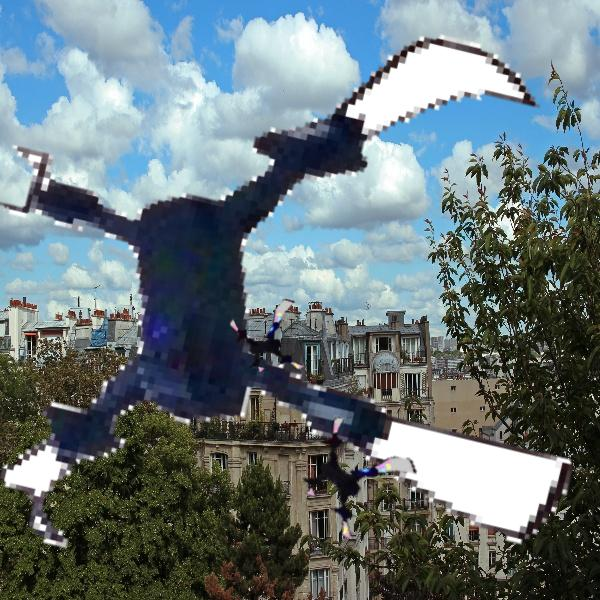drone: (298, 418, 429, 549), (232, 291, 325, 384)
